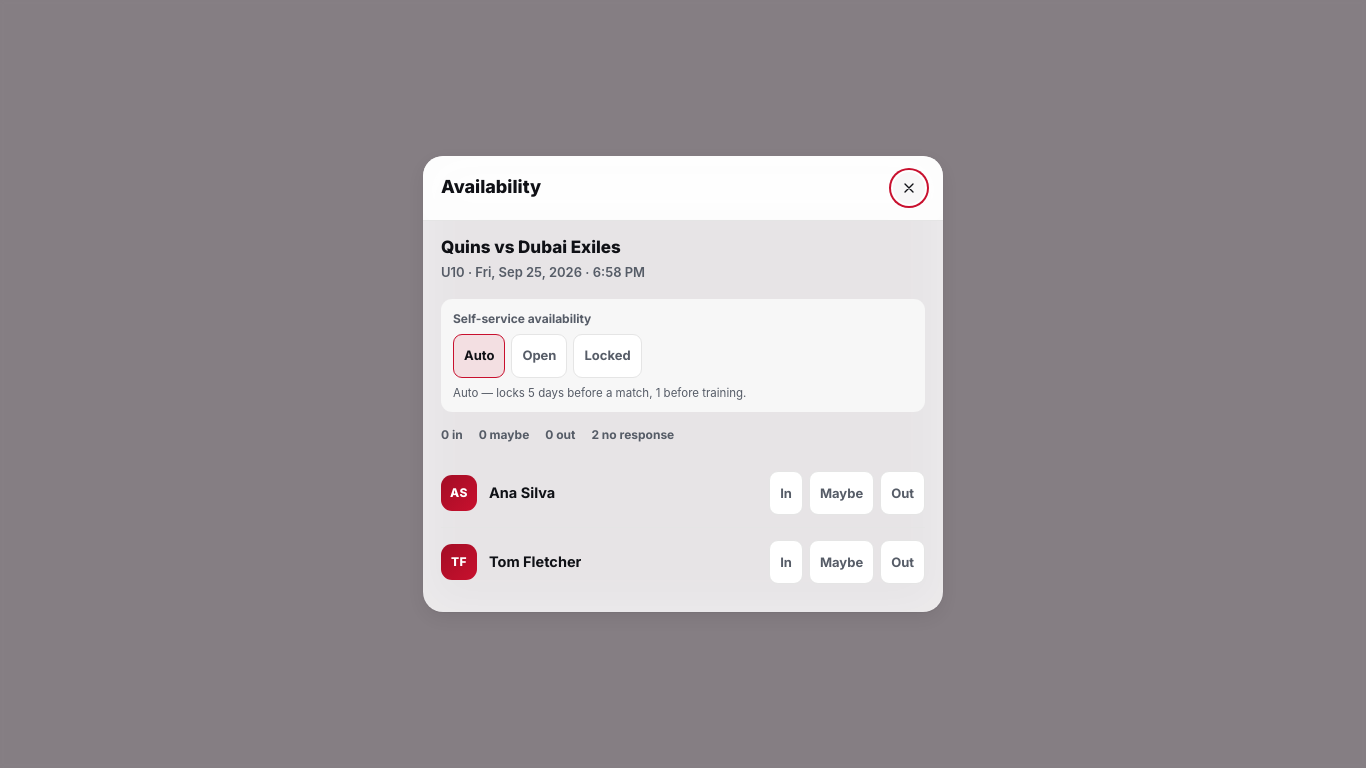
Availability — the row being saved says so › shows Saving… on the tapped row while the write is in flight, and nowhere else
Click the button "In" in the row of "AS" at point(786, 493), box [769,471,803,515]
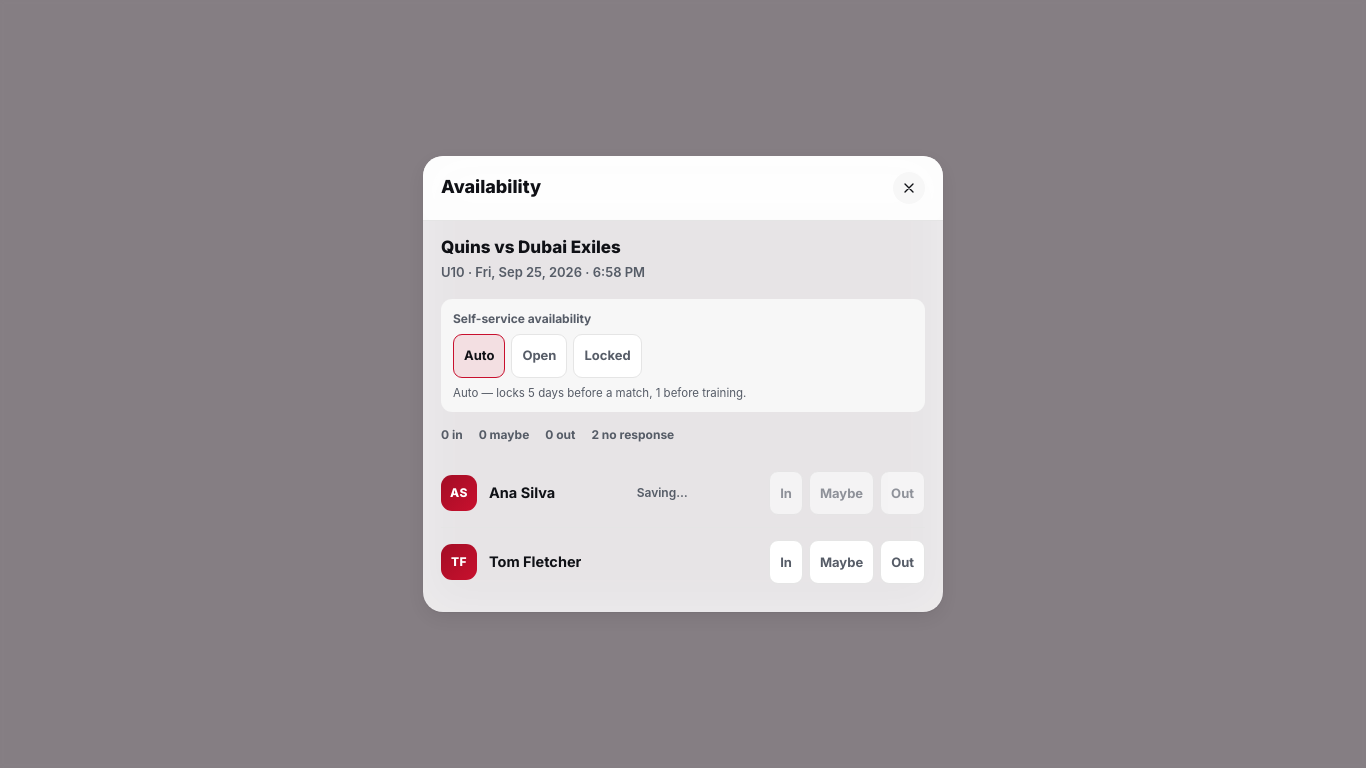
Now the message with test id "row-saving" reads "Saving…", box [637,485,688,500]
